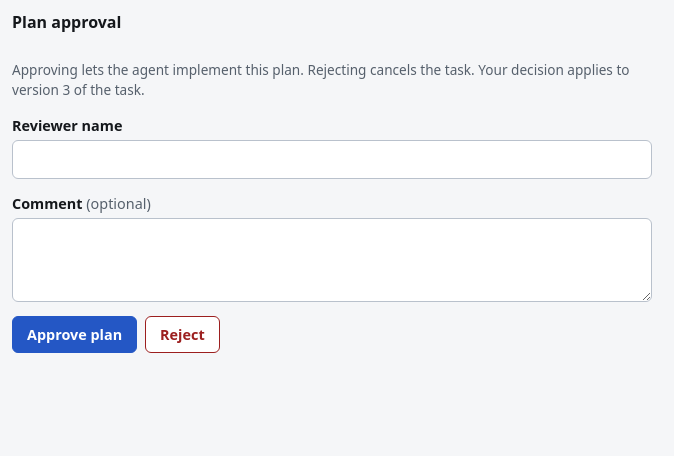
Test: ApprovalForm › sends a rejection at the plan stage with a null comment when none is given
The width and height of the screenshot is (674, 456).
Step 1. Type "Grace" into the field labelled "Reviewer name" → (332, 159), box [12,140,652,179]
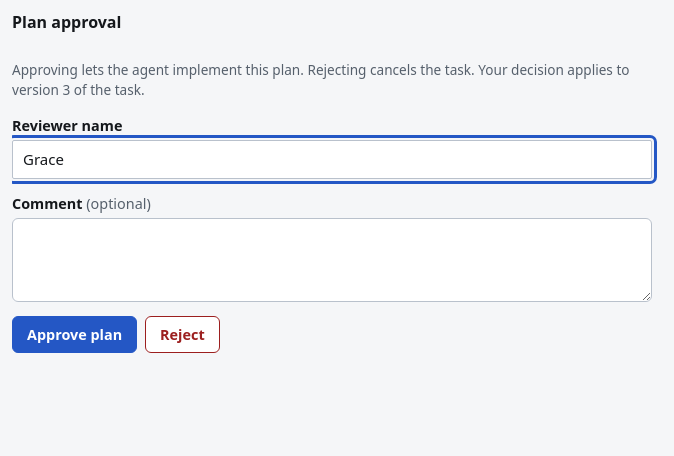
Step 2. Click the button "Reject" → click(182, 335), box [145,316,220,353]
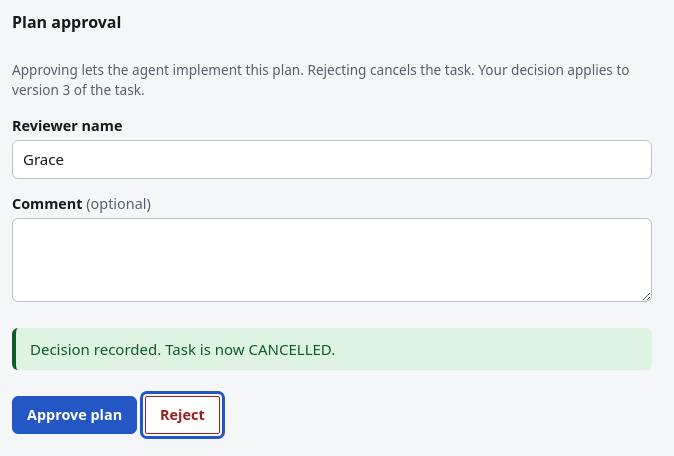
Expected: the text "Decision recorded. Task is now CANCELLED." is shown, [12,328,652,370]
